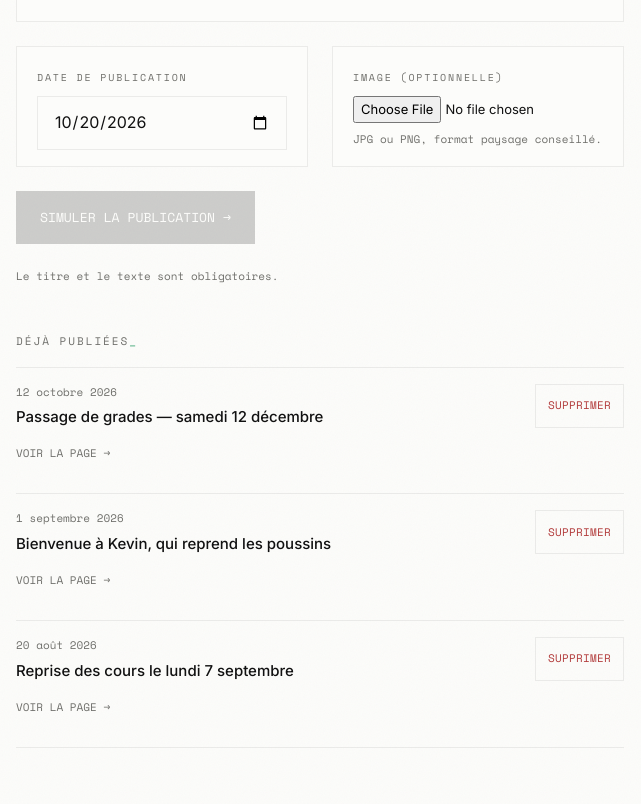
Test: l’atelier › supprime une actualité de la liste et de la vitrine
(page scrolled)
Expected: the text "Passage de grades — samedi 12 décembre" is shown, [16,406,323,430]
Click the 1st button "Supprimer".
click(579, 406)  # box [535,384,624,428]
(page scrolled)
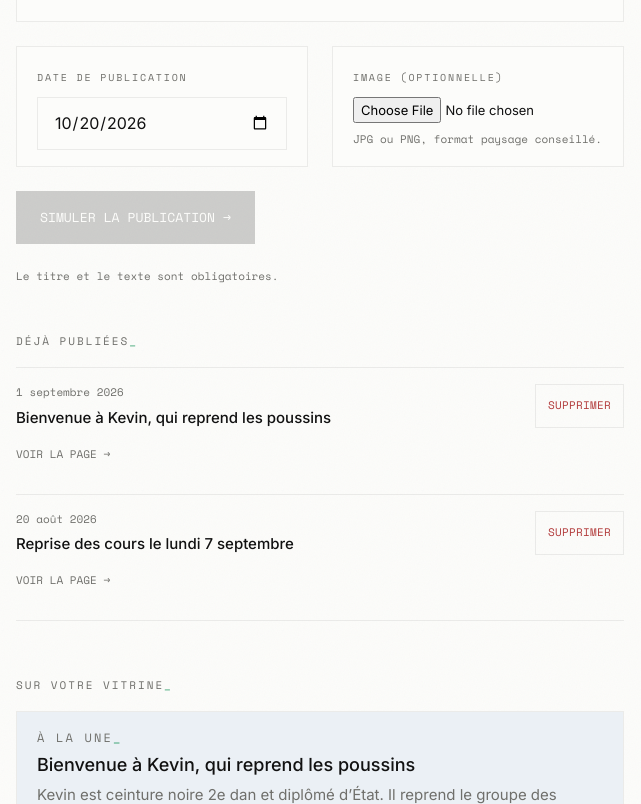
Now the text "Passage de grades — samedi 12 décembre" is gone
